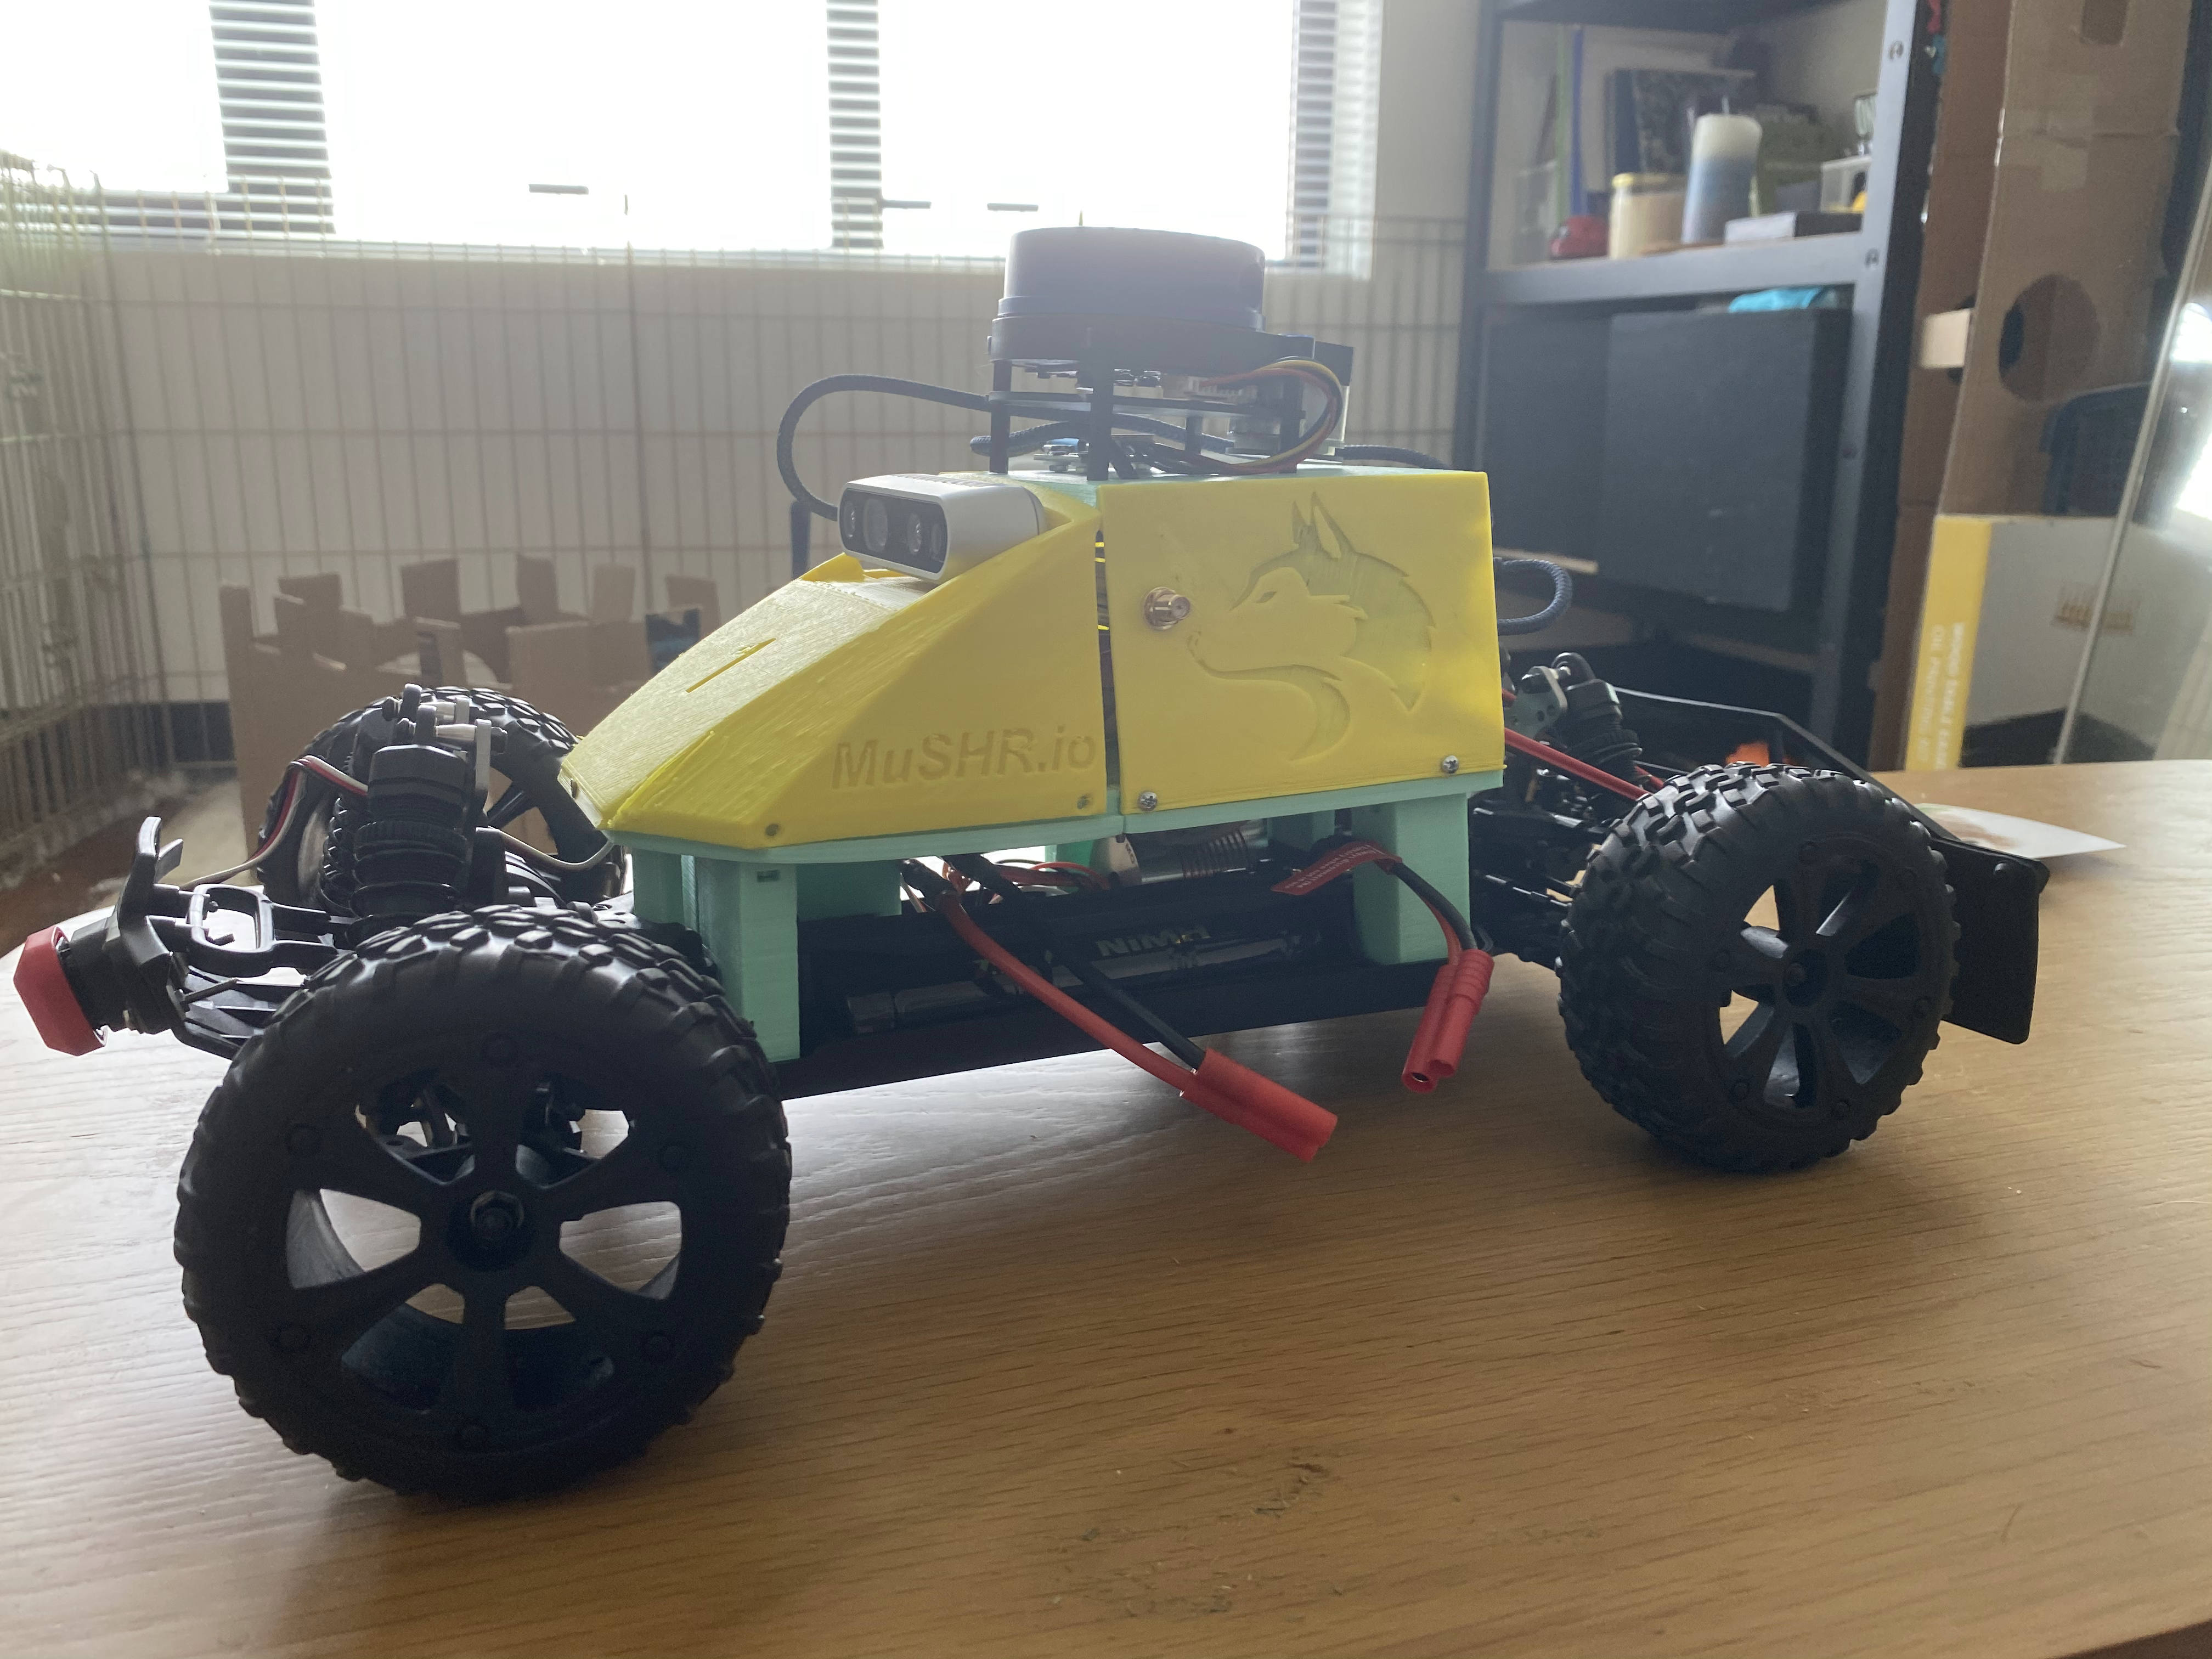mushr_car: (5, 220, 2054, 1532)
